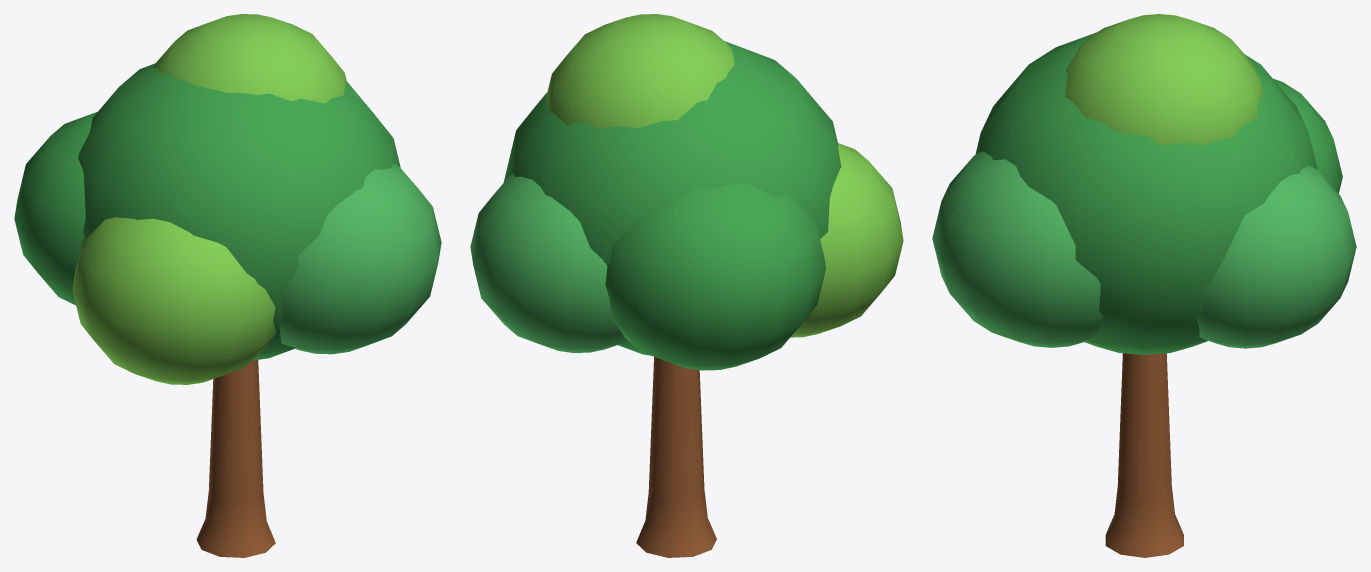
File: arvore_redonda_pequena.glb
The picture shows the model from 3 angles, left to right: view 1: azimuth 30°, elevation 25°; view 2: azimuth 150°, elevation 25°; view 3: azimuth 270°, elevation 25°; orthographic projection. The views are drawn at different scales.
Parts seen in each view (by area): view 1: arvore_redonda_pequena; view 2: arvore_redonda_pequena; view 3: arvore_redonda_pequena.
Boxes of the visible parts, x1,y1,x2,y2 form: arvore_redonda_pequena: (14,14,441,557); arvore_redonda_pequena: (470,14,903,557); arvore_redonda_pequena: (932,14,1356,557).
Bounding box in the file's own units: 2.54 × 3.75 × 2.75.
1 material, 1 textured.
